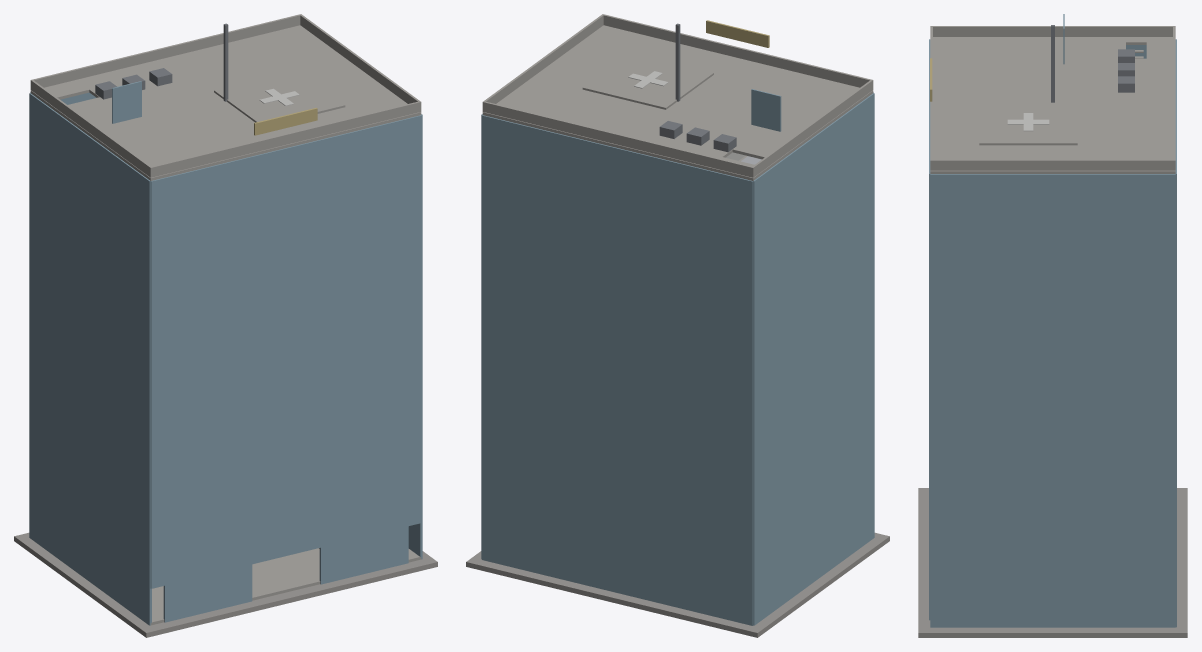
The model's file is skyscraper.glb.
3 views of the same model, side by side, from view 1: azimuth 30°, elevation 25°; view 2: azimuth 150°, elevation 25°; view 3: azimuth 270°, elevation 25° (orthographic).
Visible parts, largest first — view 1: Tower_roof_b, Tower_F11_wallS, Tower_F02_wallS, Tower_F08_wallS, Tower_F09_wallS, Tower_F03_wallS, Tower_F01_wallS, Tower_F05_wallS, Tower_F07_wallS, Tower_F10_wallS, Tower_F04_wallS, Tower_F06_wallS (+24 smaller); view 2: Tower_roof_b, Tower_F11_wallN, Tower_F02_wallN, Tower_F08_wallN, Tower_F09_wallN, Tower_F03_wallN, Tower_F01_wallN, Tower_F05_wallN, Tower_F07_wallN, Tower_F10_wallN, Tower_F00_wallN, Tower_F04_wallN (+22 smaller); view 3: Tower_roof_b, Tower_F02_wallE, Tower_F03_wallE, Tower_F06_wallE, Tower_F07_wallE, Tower_F11_wallE, Tower_F00_wallE, Tower_F01_wallE, Tower_F04_wallE, Tower_F05_wallE, Tower_F08_wallE, Tower_F09_wallE (+9 smaller).
Boxes of the visible parts, bbox=[...] form: Tower_roof_b: bbox=[76, 25, 421, 169]; Tower_F11_wallS: bbox=[150, 115, 421, 218]; Tower_F02_wallS: bbox=[150, 449, 421, 551]; Tower_F08_wallS: bbox=[150, 226, 421, 329]; Tower_F09_wallS: bbox=[150, 189, 421, 292]; Tower_F03_wallS: bbox=[150, 412, 421, 514]; Tower_F01_wallS: bbox=[150, 486, 421, 588]; Tower_F05_wallS: bbox=[150, 338, 421, 440]; Tower_F07_wallS: bbox=[150, 264, 421, 366]; Tower_F10_wallS: bbox=[150, 152, 421, 255]; Tower_F04_wallS: bbox=[150, 375, 421, 477]; Tower_F06_wallS: bbox=[150, 301, 421, 403]; Tower_roof_b: bbox=[482, 25, 827, 169]; Tower_F11_wallN: bbox=[482, 115, 753, 218]; Tower_F02_wallN: bbox=[482, 449, 753, 551]; Tower_F08_wallN: bbox=[482, 226, 753, 329]; Tower_F09_wallN: bbox=[482, 189, 753, 292]; Tower_F03_wallN: bbox=[482, 412, 753, 514]; Tower_F01_wallN: bbox=[482, 486, 753, 588]; Tower_F05_wallN: bbox=[482, 338, 753, 440]; Tower_F07_wallN: bbox=[482, 264, 753, 366]; Tower_F10_wallN: bbox=[482, 152, 753, 255]; Tower_F00_wallN: bbox=[482, 523, 753, 625]; Tower_F04_wallN: bbox=[482, 375, 753, 477]; Tower_roof_b: bbox=[930, 58, 1175, 173]; Tower_F02_wallE: bbox=[930, 514, 1175, 552]; Tower_F03_wallE: bbox=[930, 476, 1175, 514]; Tower_F06_wallE: bbox=[930, 363, 1175, 401]; Tower_F07_wallE: bbox=[930, 325, 1175, 363]; Tower_F11_wallE: bbox=[930, 174, 1175, 212]; Tower_F00_wallE: bbox=[930, 590, 1175, 627]; Tower_F01_wallE: bbox=[930, 552, 1175, 589]; Tower_F04_wallE: bbox=[930, 439, 1175, 476]; Tower_F05_wallE: bbox=[930, 401, 1175, 438]; Tower_F08_wallE: bbox=[930, 288, 1175, 325]; Tower_F09_wallE: bbox=[930, 250, 1175, 287].
Bounding box in the file's own units: 28 × 49.2 × 22.
